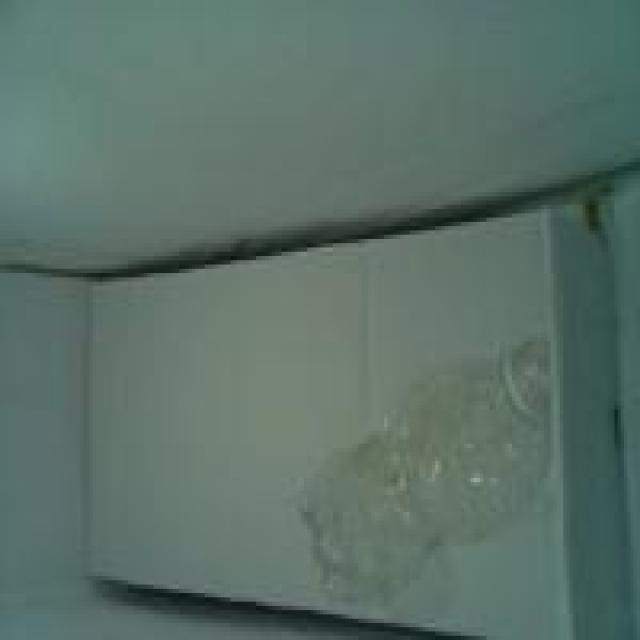bottle: (296, 338, 566, 611)
